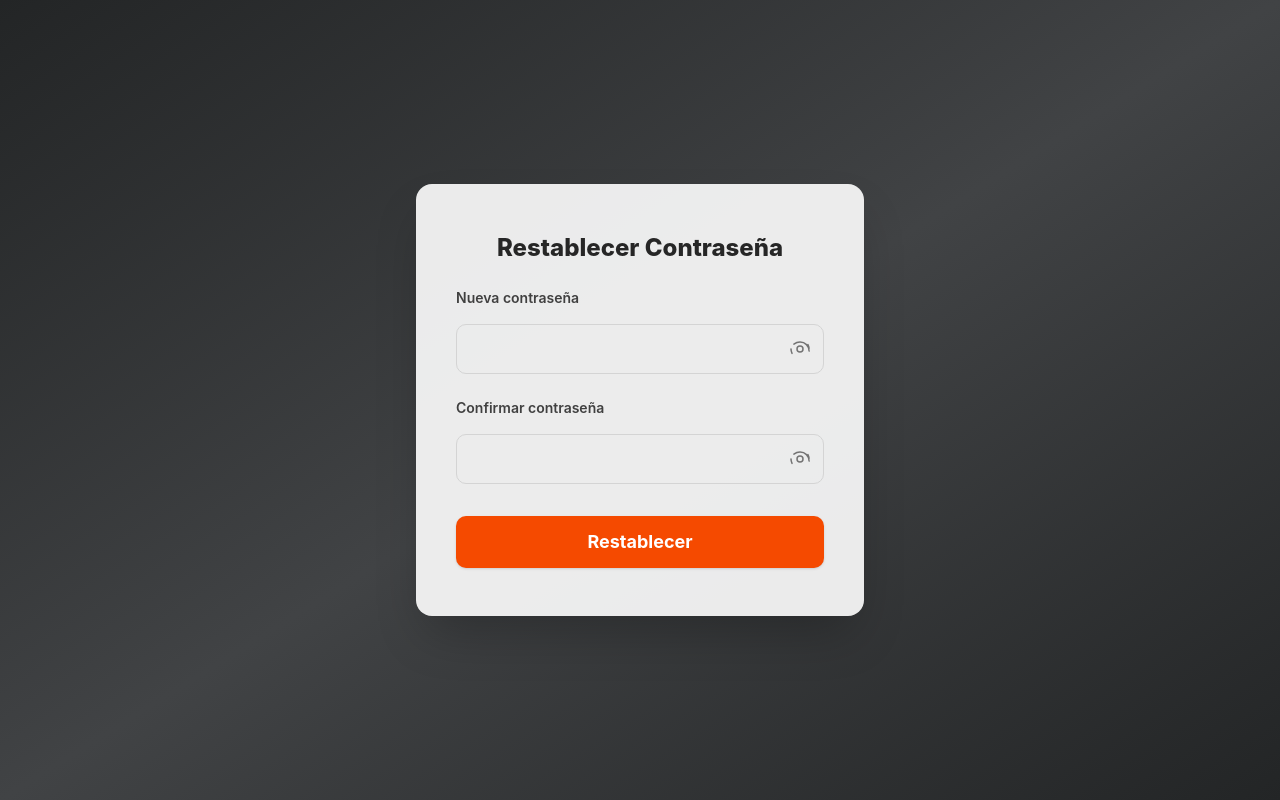
Scenario: ResetPassword › shows error when passwords do not match
In the password field labelled "Nueva contraseña": point(640, 349) [456, 324, 824, 374], type "password123"
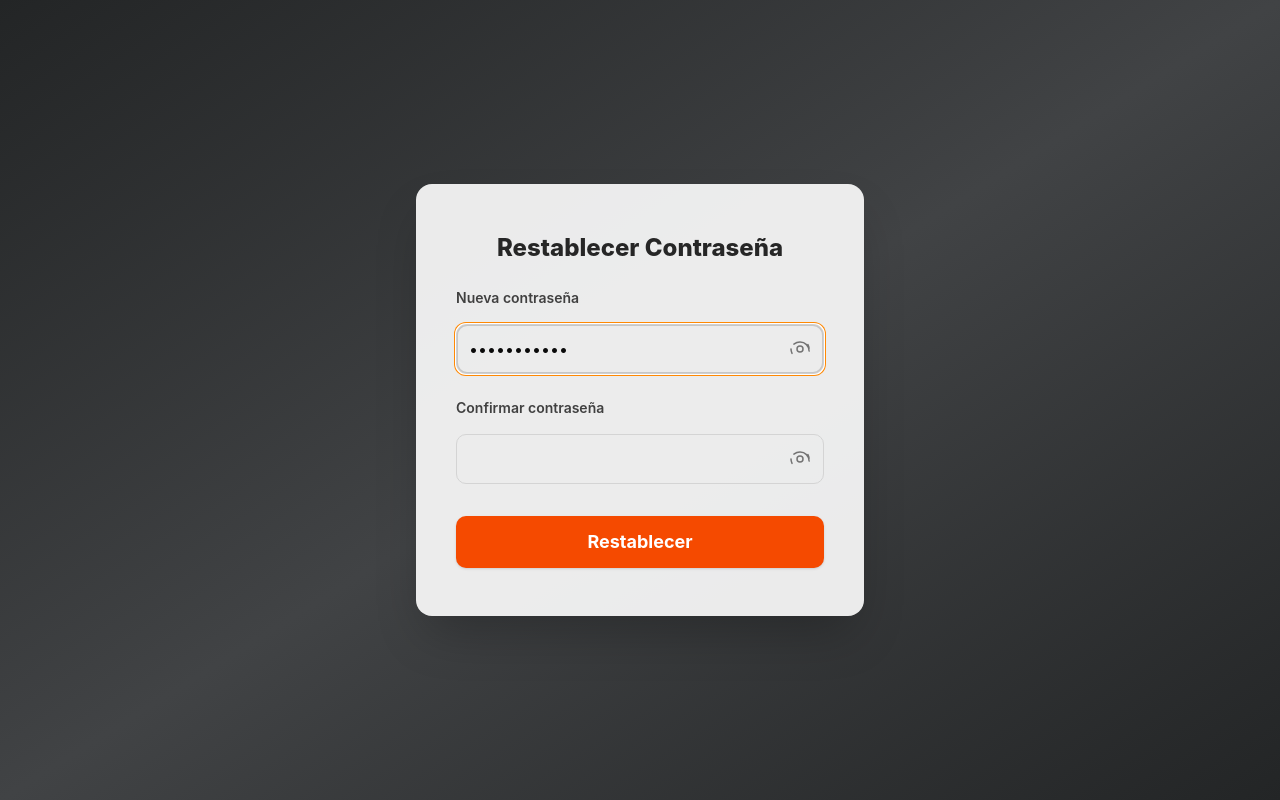
In the password field labelled "Confirmar contraseña": point(640, 459) [456, 434, 824, 484], type "different123"
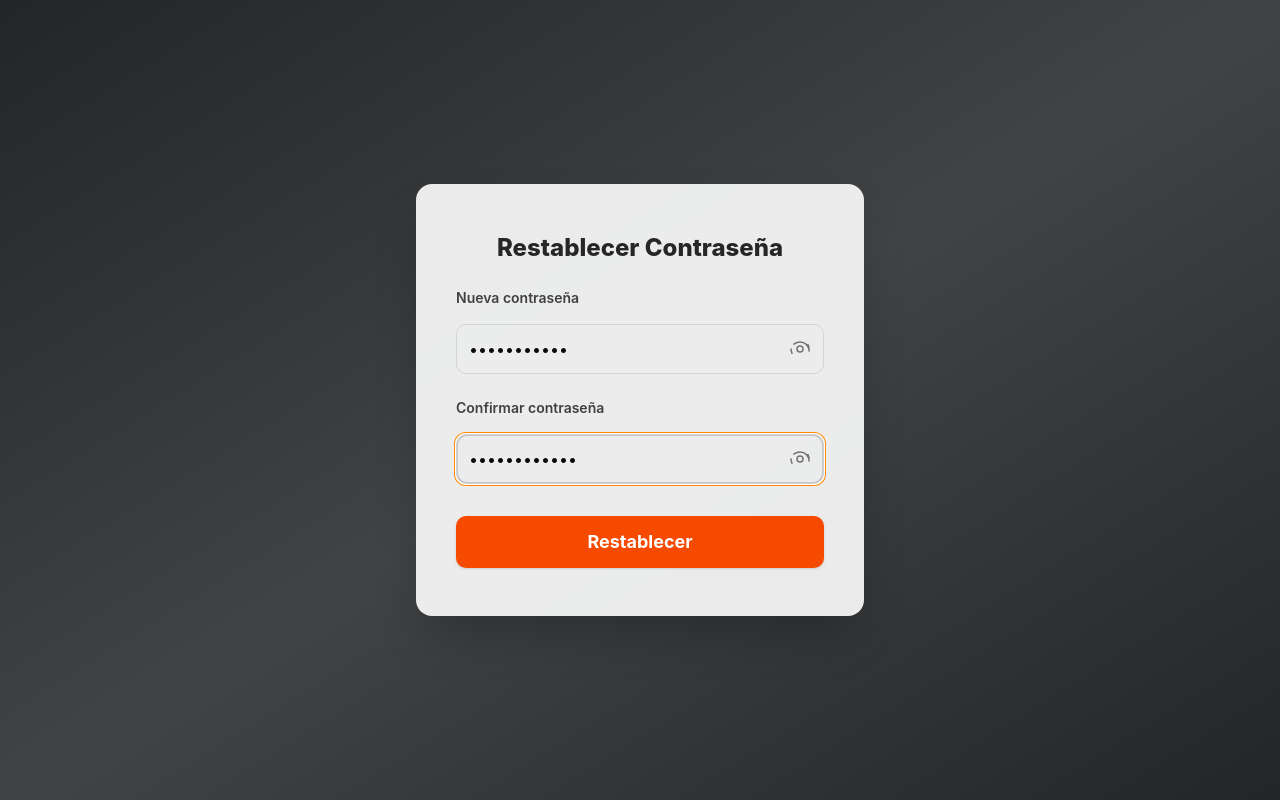
Click the button "Restablecer": point(640, 542) [456, 516, 824, 568]
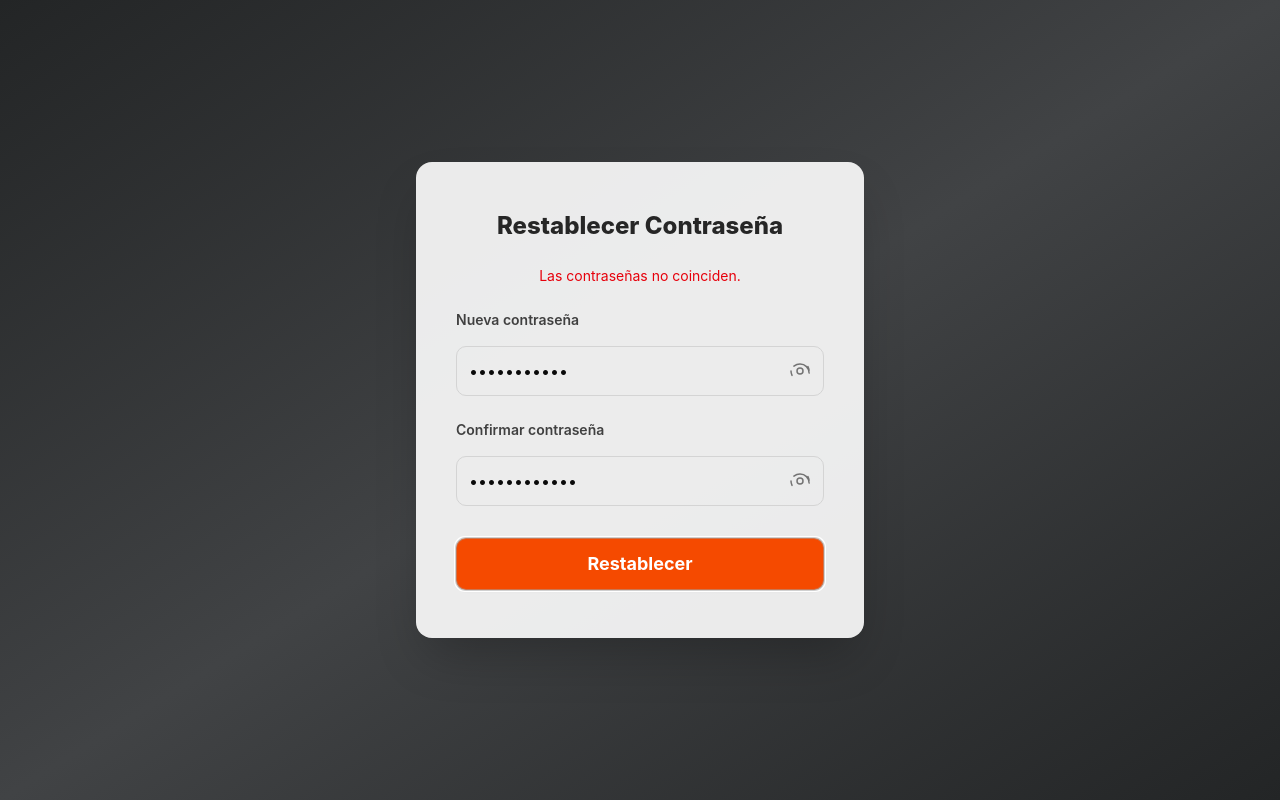
Check: the text "Las contraseñas no coinciden." is shown, box [539, 267, 741, 284]
